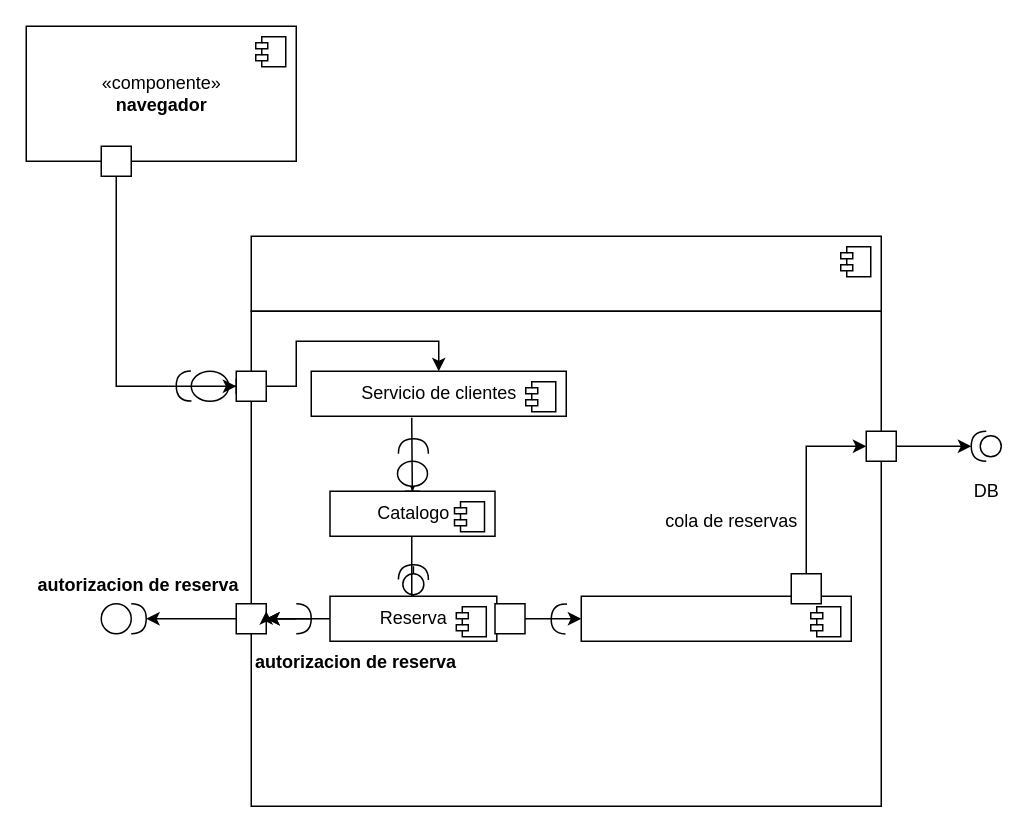
Some shapes in this 1035 by 833 pixel diagram are drawn without their labels. The centre of each missing label's shape, as x and y in pixels:
servicio de peluqueros: the point at 715,618
«Componente» Servicio web Peluqueria: the point at 565,273
